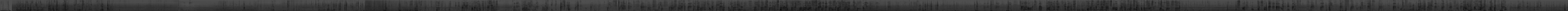Moan: (1087, 0, 1090, 11)
